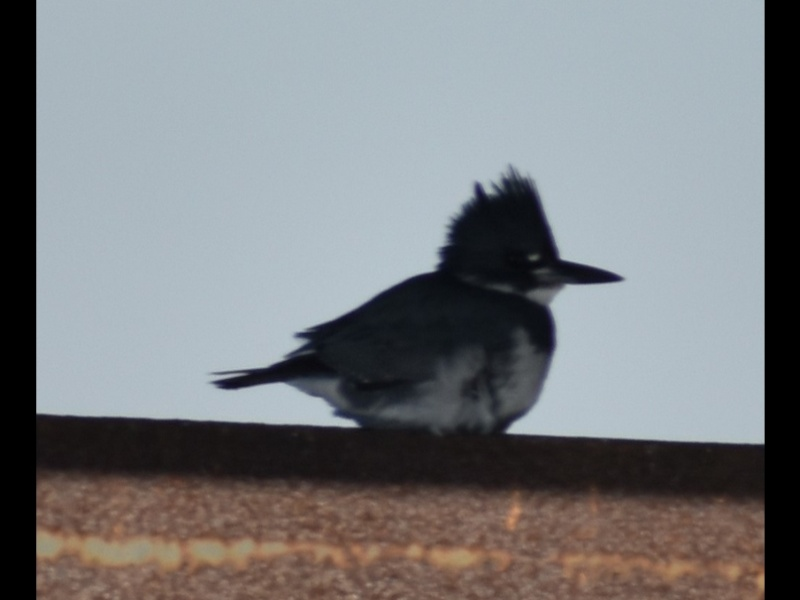kingfisher: (205, 164, 628, 427)
